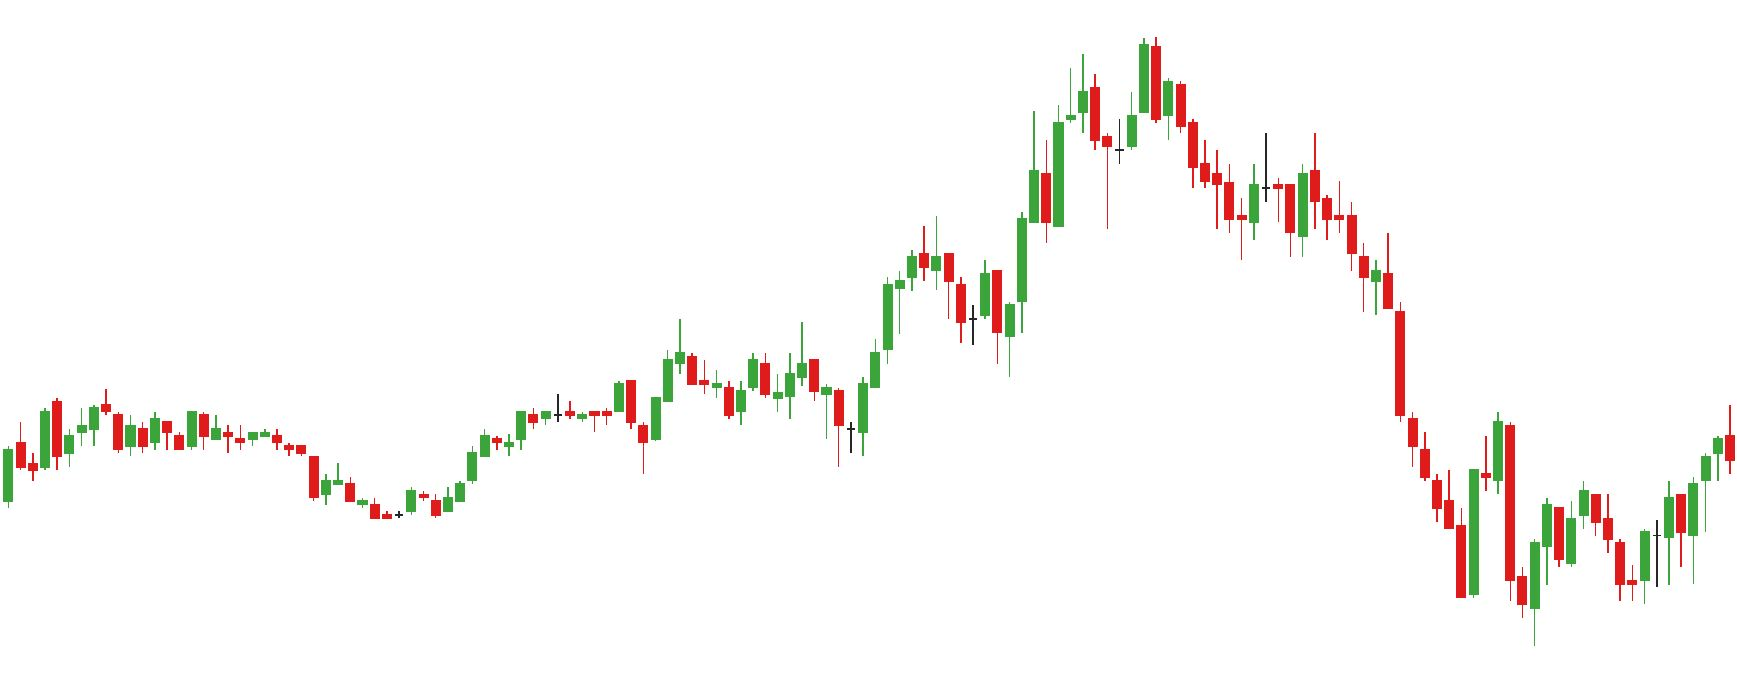buy: (1453, 528, 1541, 643), (954, 296, 1018, 382)
sell: (1076, 33, 1163, 137)
